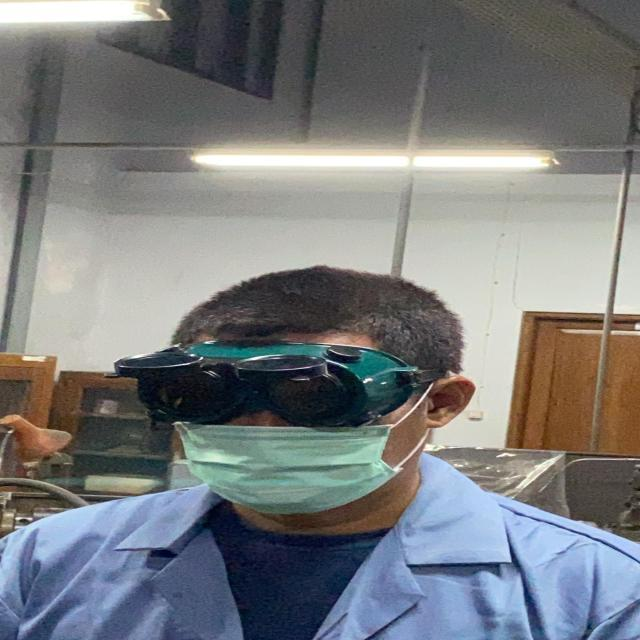glasses: (87, 332, 444, 432)
